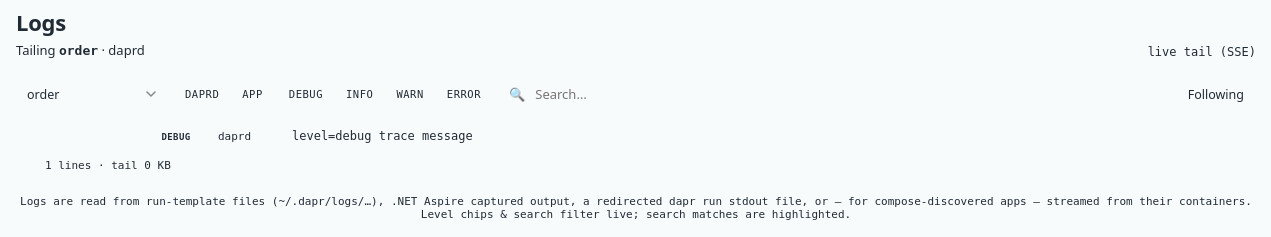
Scenario: Logs › level chip toggles off and filters out that level
Expected: the text "level=debug trace message" is shown, [292, 129, 473, 143]
Note: Toggle debug chip off
Click the button "debug": (306, 94) [280, 82, 332, 106]
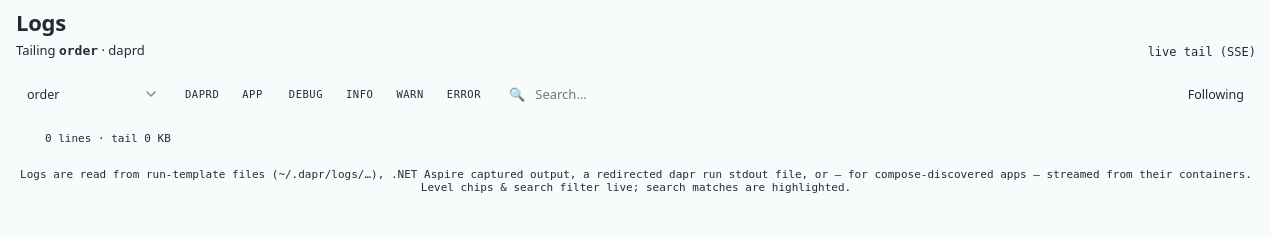
Expected: the text "trace message" is gone
